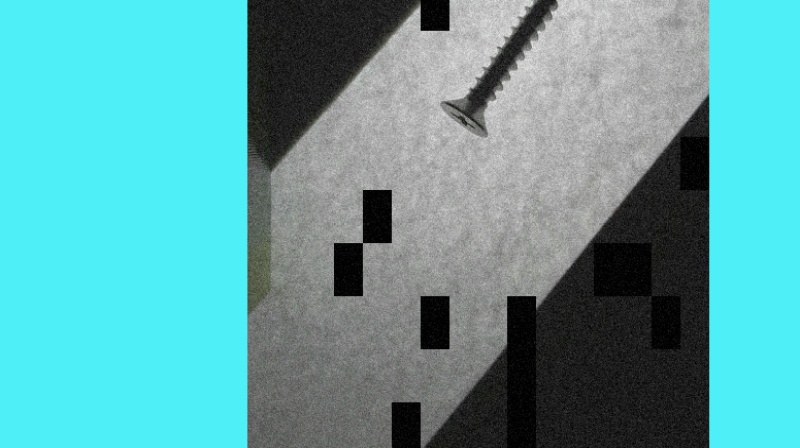S001: (436, 0, 565, 142)
